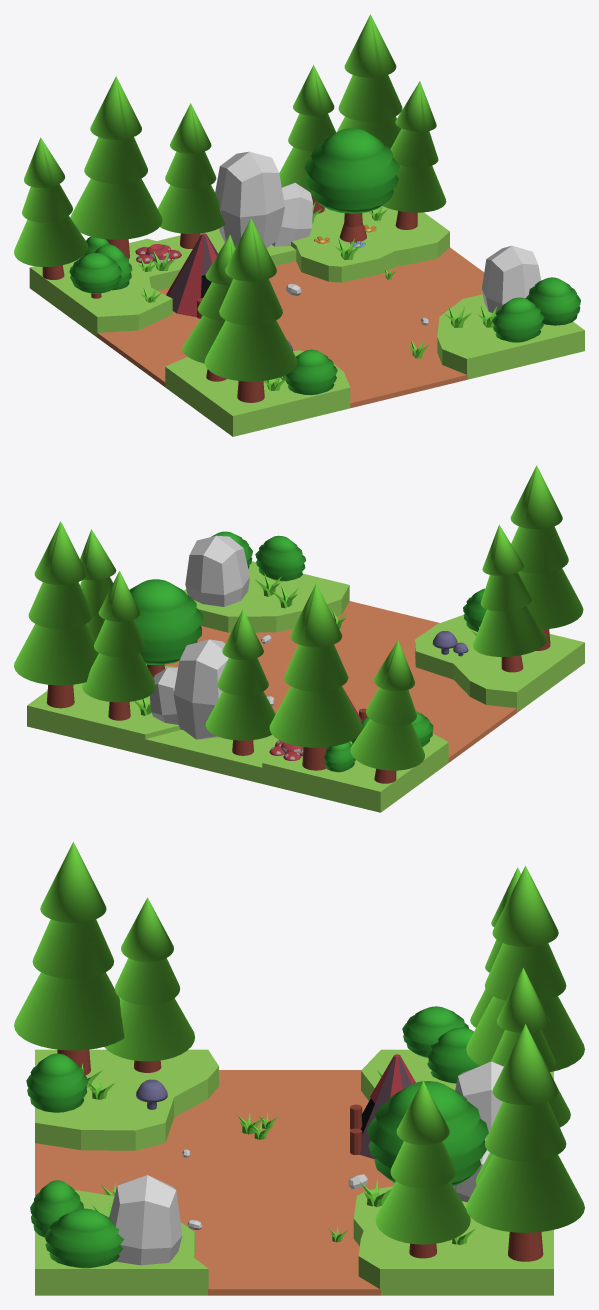
The model's file is jungle level set - 3 Way (1).fbx.
3 renders of one model, top to bottom at view 1: azimuth 30°, elevation 25°; view 2: azimuth 150°, elevation 25°; view 3: azimuth 270°, elevation 25°, orthographic. The views are drawn at different scales.
Visible parts, largest first — view 1: land_platform, tree_006, tree_008, tree_003, tree_009, tree_007, tree_002, tree_001, stone, tree, stone_004, tree_005 (+8 smaller); view 2: land_platform, tree_008, tree_001, tree_006, tree, tree_005, tree_009, tree_007, tree_003, stone, stone_004, tree_002 (+6 smaller); view 3: land_platform, tree_001, tree_006, tree_008, tree_002, tree_005, tree_003, stone_004, bush, tree_007, bush_005, camp (+6 smaller).
Boxes of the visible parts, <box> form: land_platform: <box>29,206,584,436</box>; tree_006: <box>204,218,297,402</box>; tree_008: <box>70,76,162,258</box>; tree_003: <box>304,128,399,242</box>; tree_009: <box>14,137,87,279</box>; tree_007: <box>157,103,225,248</box>; tree_002: <box>382,81,446,229</box>; tree_001: <box>336,14,402,148</box>; stone: <box>215,151,284,248</box>; tree: <box>279,65,335,213</box>; stone_004: <box>482,245,541,314</box>; tree_005: <box>182,234,235,381</box>; land_platform: <box>27,561,584,812</box>; tree_008: <box>269,583,362,770</box>; tree_001: <box>14,521,98,708</box>; tree_006: <box>510,465,583,650</box>; tree: <box>82,571,155,720</box>; tree_005: <box>473,524,547,672</box>; tree_009: <box>350,640,424,783</box>; tree_007: <box>205,609,275,755</box>; tree_003: <box>129,579,203,677</box>; stone: <box>173,639,228,739</box>; stone_004: <box>185,535,249,606</box>; tree_002: <box>80,529,116,640</box>; land_platform: <box>35,1049,553,1295</box>; tree_001: <box>466,1024,584,1261</box>; tree_006: <box>14,842,124,1075</box>; tree_008: <box>466,866,584,1071</box>; tree_002: <box>375,1080,470,1258</box>; tree_005: <box>104,897,194,1072</box>; tree_003: <box>367,1081,488,1186</box>; stone_004: <box>109,1175,182,1265</box>; bush: <box>44,1208,123,1268</box>; tree_007: <box>491,967,570,1127</box>; bush_005: <box>26,1053,87,1112</box>; camp: <box>350,1054,415,1159</box>.
Bounding box in the file's own units: 17.03 × 8.76 × 16.7.
